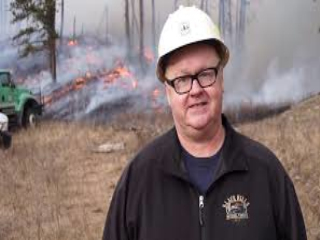fire: (77, 62, 140, 86)
smoke: (224, 44, 314, 105), (65, 84, 150, 118)
